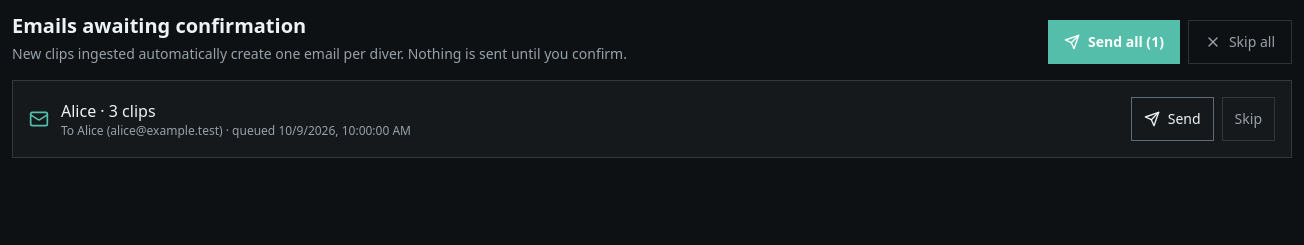
it: HeldBatchEmails › shows held emails and confirms one with a single click
Expected: the text "Alice · 3 clips" is shown, [61,100,156,122]
Click the button "Send" at (1172, 119), box [1131,97,1214,141]
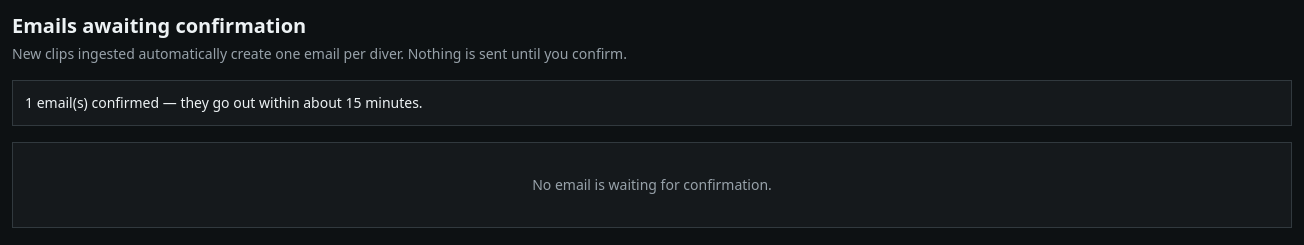
Expected: the text "No email is waiting for confirmation." is shown, [12,142,1292,228]
Expected: the text "1 email(s) confirmed — they go out within about 15 minutes." is shown, [12,80,1292,126]
